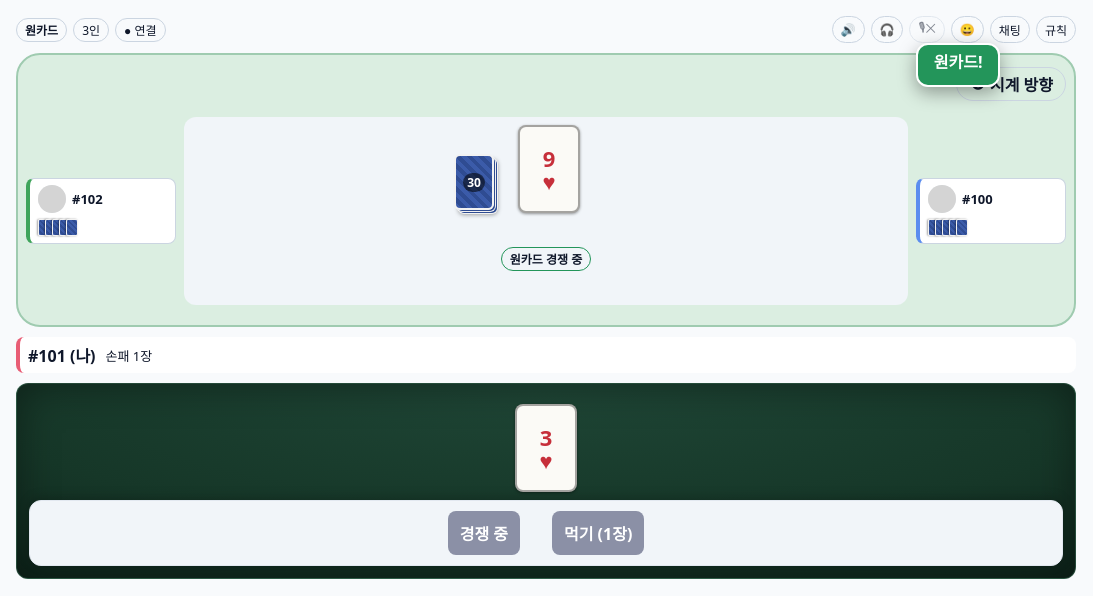
Scenario: OneCardTable — 원카드 경쟁 › 주인에게는 "원카드!" — 누르면 창 번호와 함께 CALL_ONE_CARD 를 보내고 다시 누를 수 없다
This screenshot has width=1093, height=596.
Click the button "원카드!".
click(958, 65)  # box [916,43,1000,87]
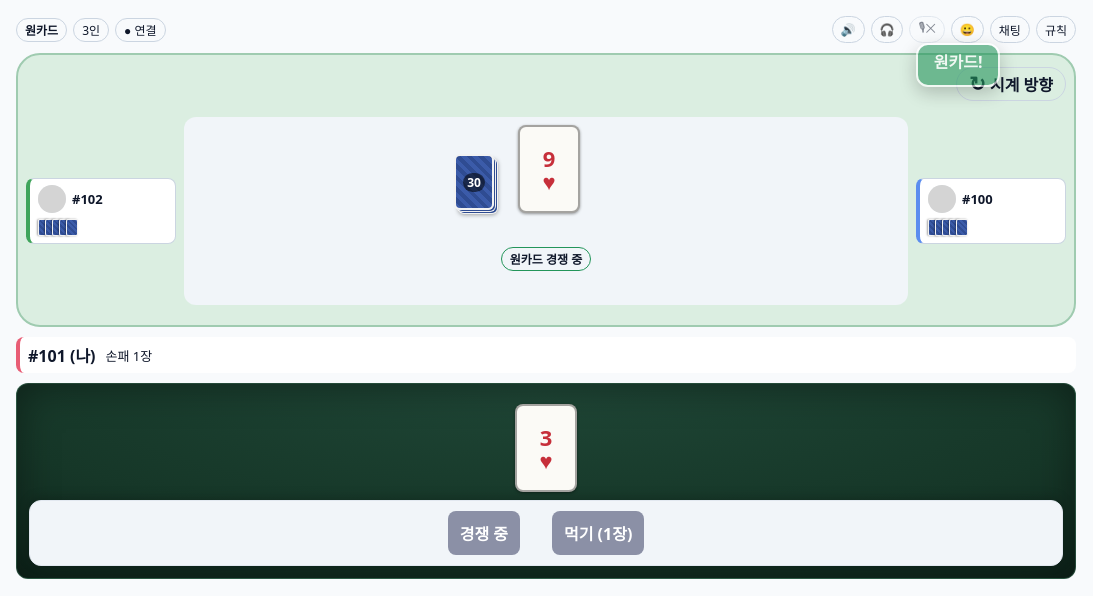
Result: the button "원카드!" is disabled at [916,43,1000,87]
